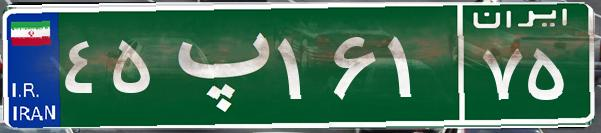1: (385, 28, 445, 110), (273, 28, 330, 110)
4: (57, 26, 110, 107)
5: (110, 28, 158, 105), (525, 38, 570, 115)
6: (330, 28, 385, 110)
7: (475, 38, 525, 113)
پ: (158, 15, 273, 115)
